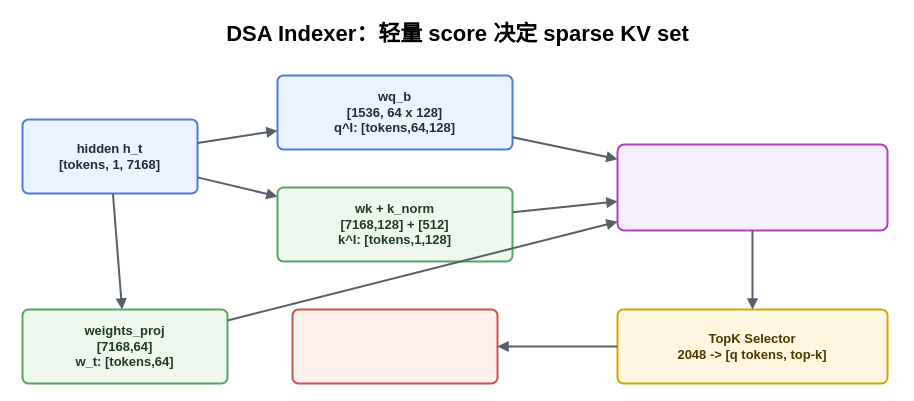
Image size: 914x401. Some labels were removed from this diagram. Each missing label, with the centre of its shape:
"Indexer score I(t,s)=Σ_j w(t,j) ReLU(q(t,j)·k(s))" belongs at point 752,187.
"MQA with indices Sparse MLA operand" belongs at point 394,346.
